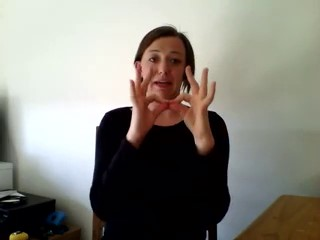B: (120, 60, 218, 132)
